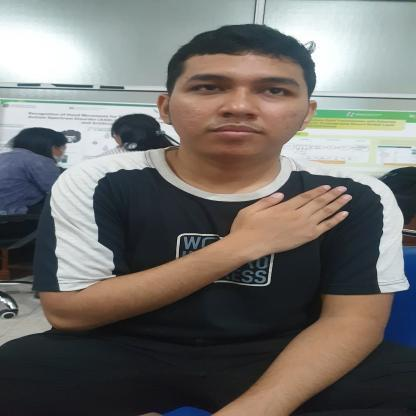Saya: (214, 182, 359, 259)
